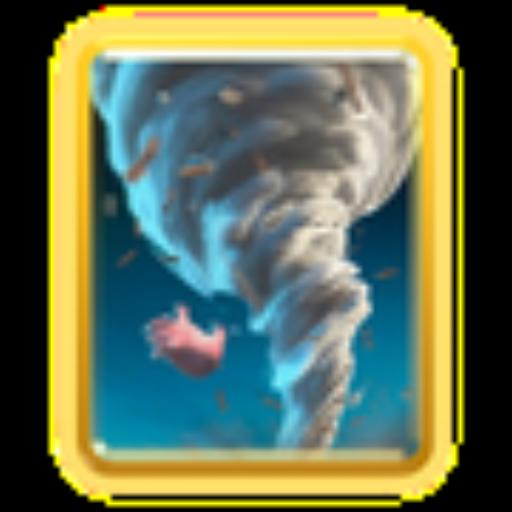tornado: (78, 52, 424, 466)
